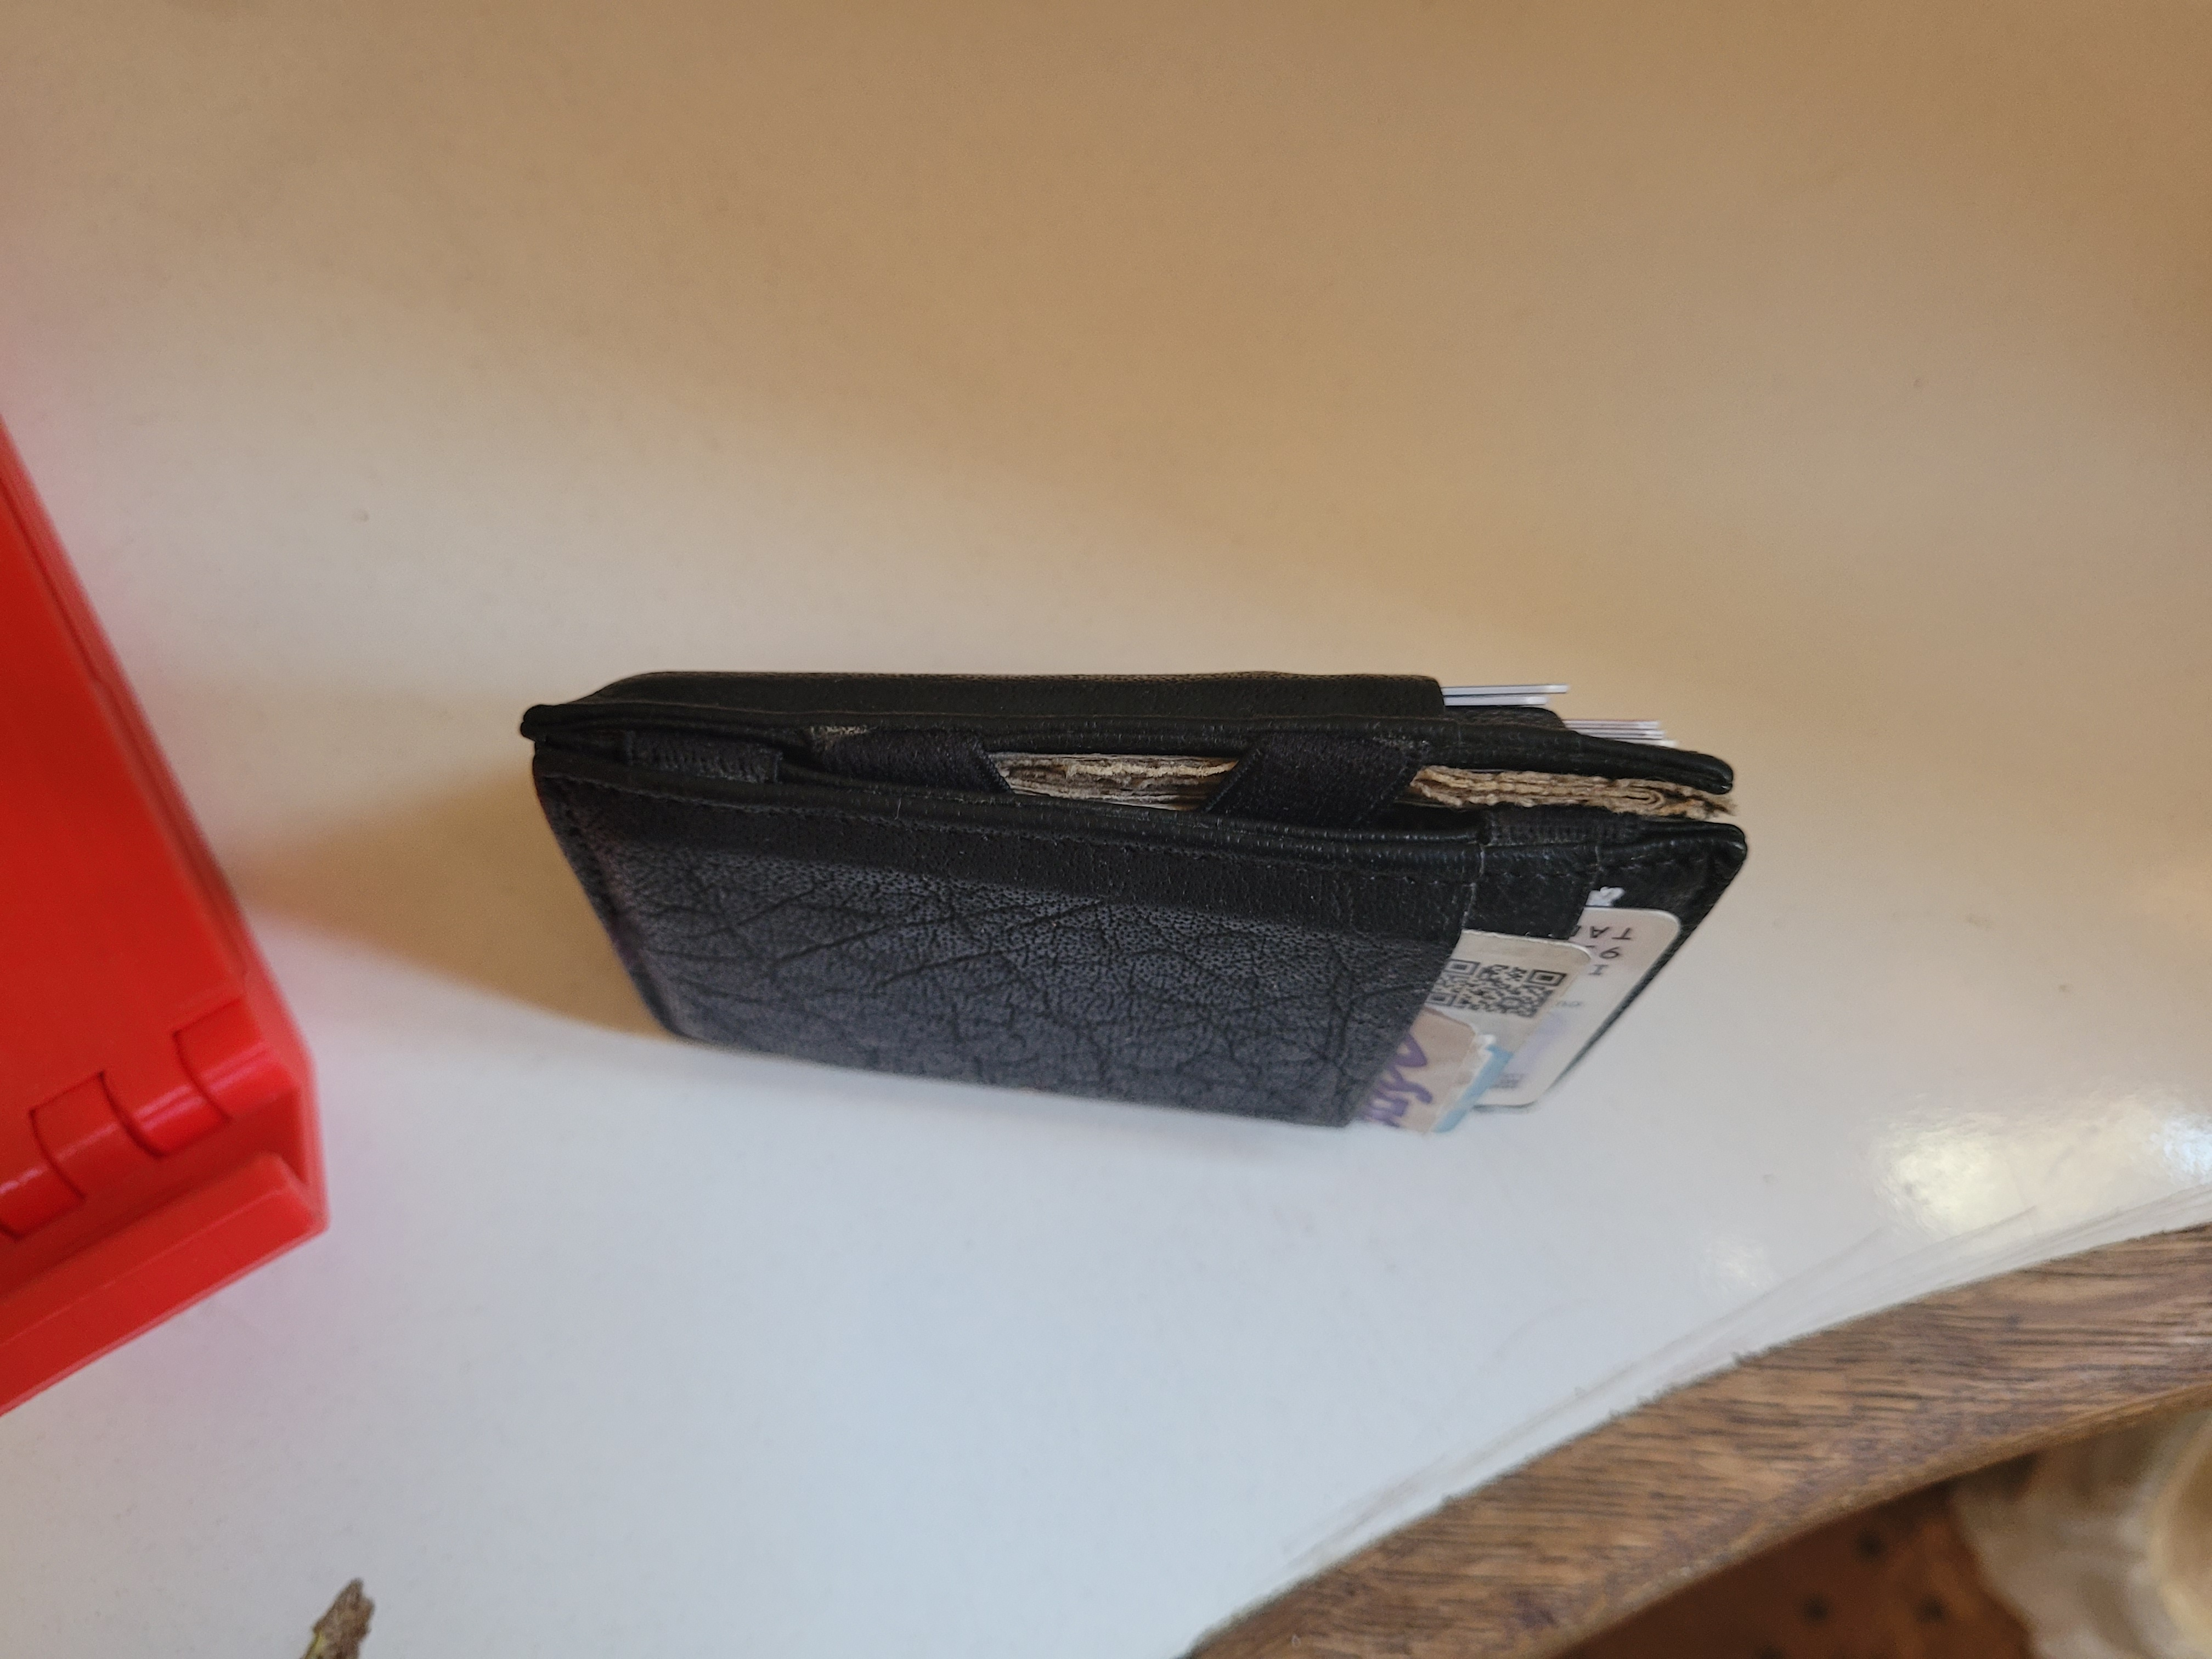billetera: (500, 617, 1768, 1194)
